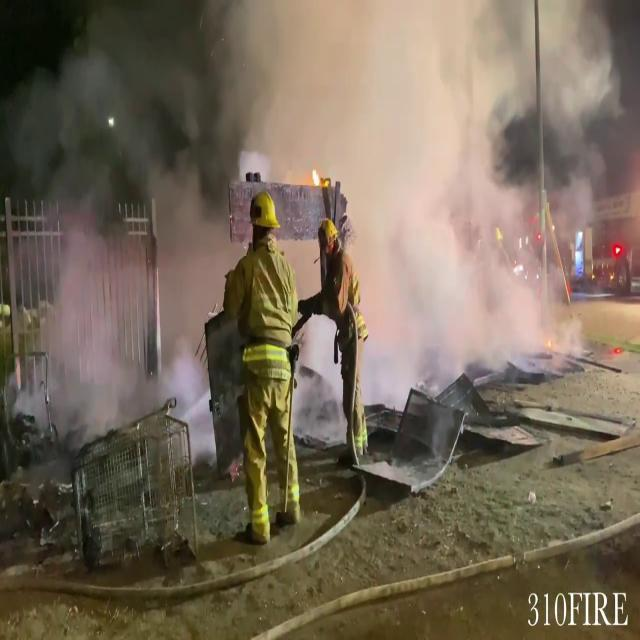Smoke: (16, 0, 634, 395)
